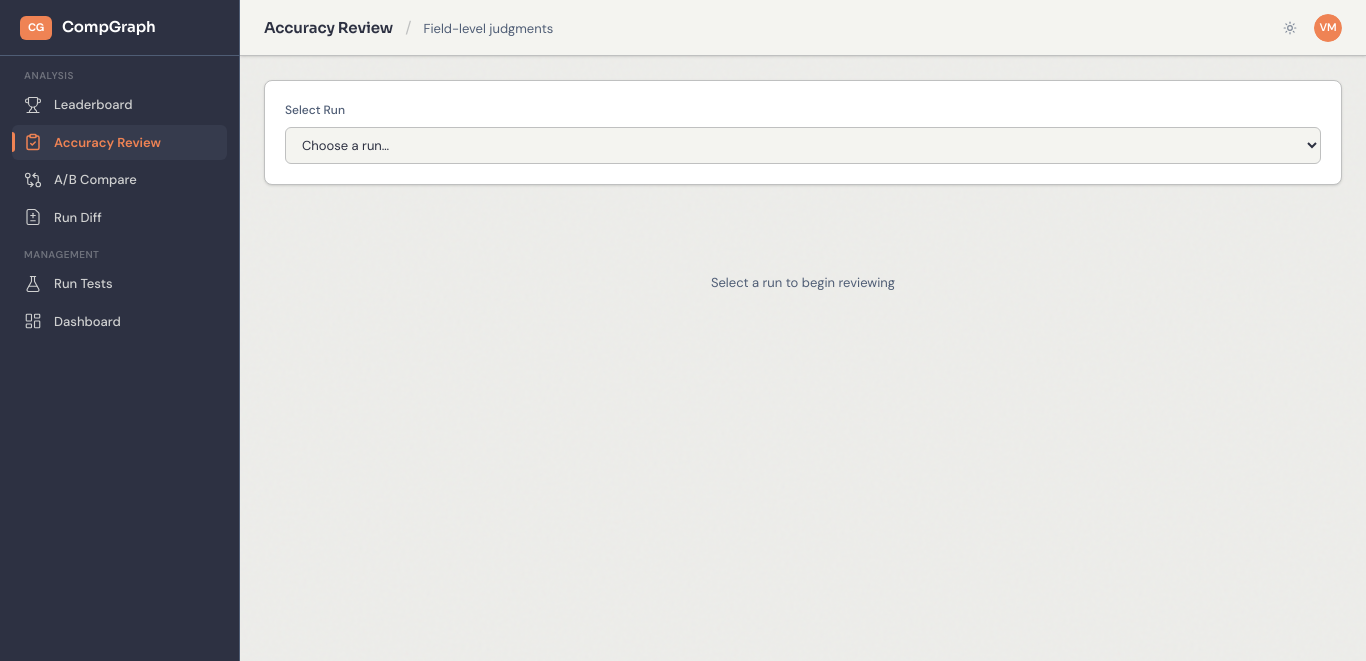
Test: AccuracyPage › keyboard interactions › pressing R opens replace mode with an input field
The width and height of the screenshot is (1366, 661).
Step 1. Select "haiku-3.5 / pass1_v1 · Pass 1 · #1" in the dropdown labelled "Select Run" → (803, 146), box [285,127,1321,164]
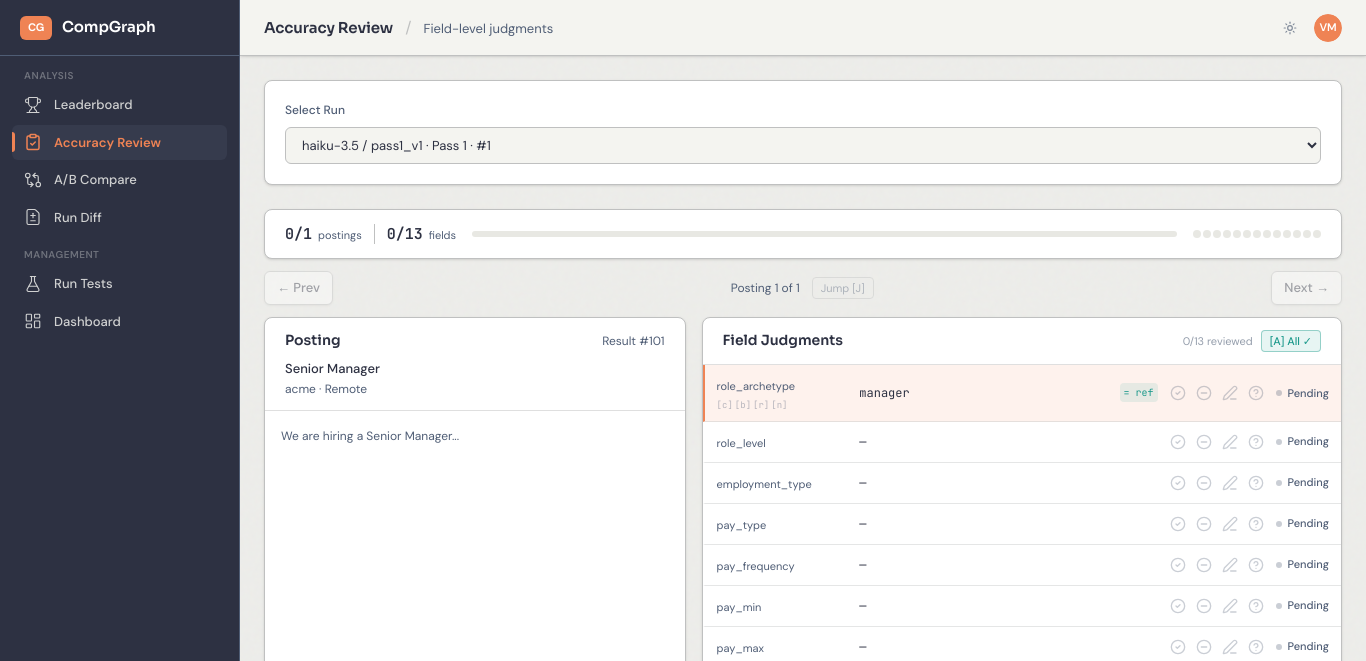
Expected: the text "role_archetype" is shown, [717,379,795,393]
Step 2. Type keys "r"
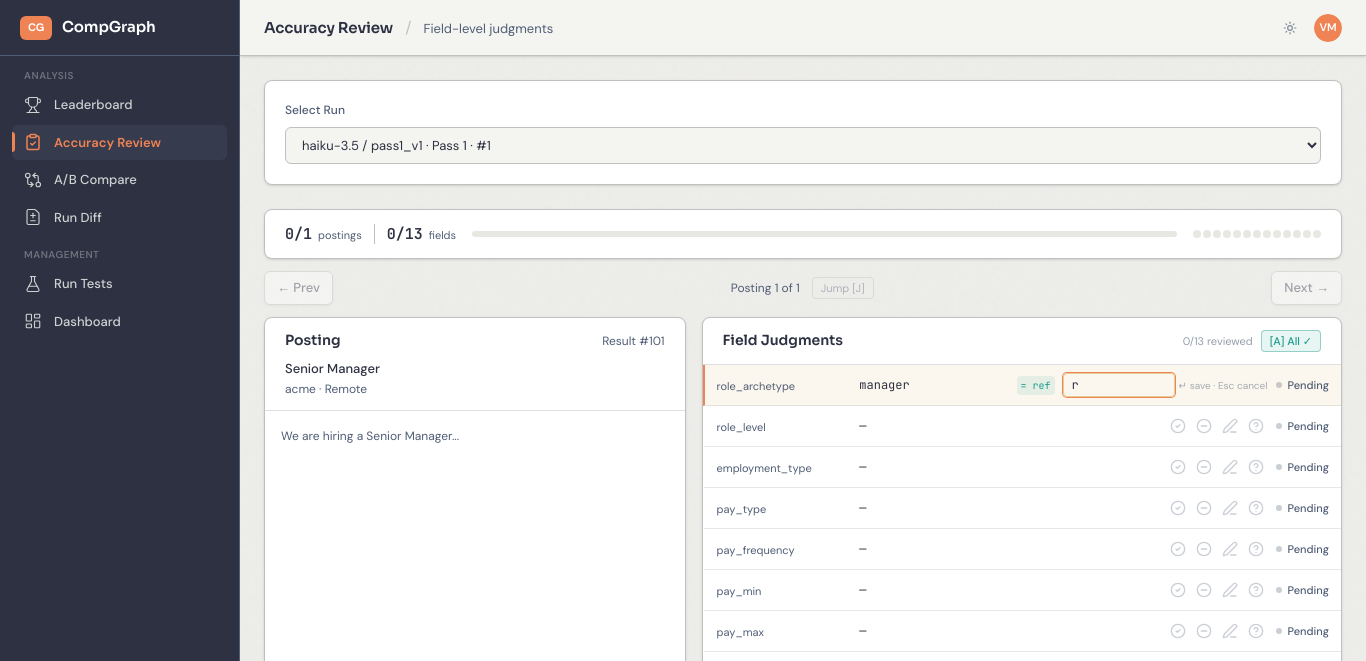
Expected: the field is shown, [1063,373,1175,397]
